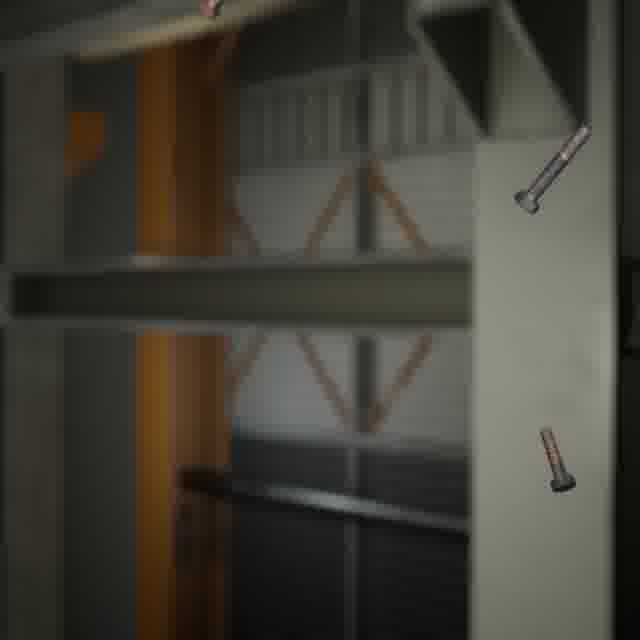bolt: (509, 119, 596, 217), (535, 422, 581, 497), (192, 0, 230, 24)
